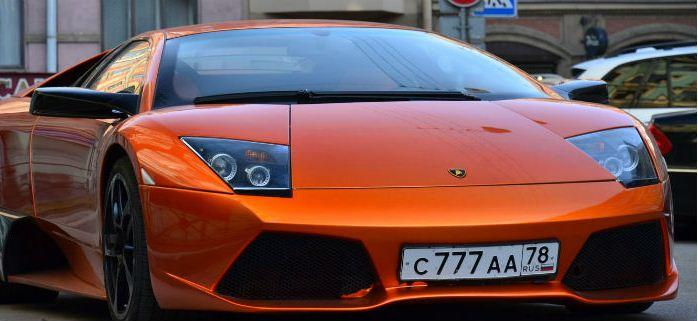license-plateSW: (398, 243, 558, 281)
